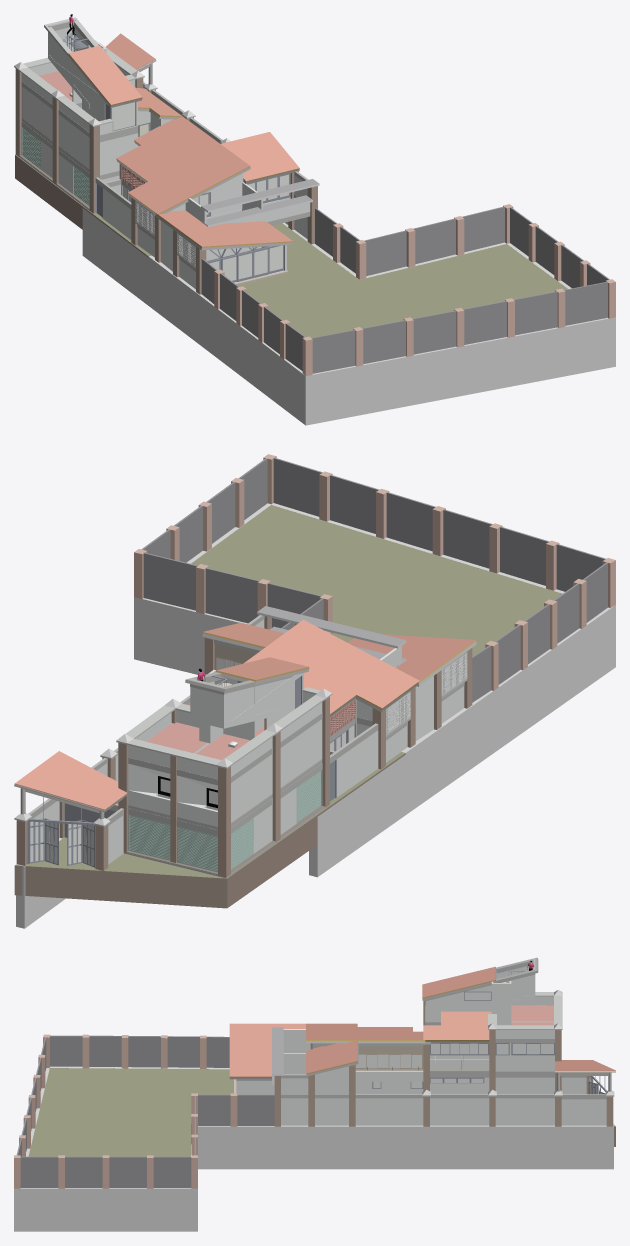
File: casa_lomas_optimizado.glb
3 views of the same model, one above another, from view 1: azimuth 30°, elevation 25°; view 2: azimuth 150°, elevation 25°; view 3: azimuth 270°, elevation 25° (orthographic). The views are drawn at different scales.
Parts seen in each view (by area): view 1: Mesh1829.001, Mesh298.001, Mesh1789.001, Mesh1708.001, Mesh1817.001, Mesh1766.001, Mesh1034.001, Mesh1705.001, Mesh284.001, Mesh286.001, Mesh288.001, Mesh285.001 (+25 smaller); view 2: Mesh1829.001, Mesh1789.001, Mesh1708.001, Mesh1817.001, Mesh300.001, Mesh433.001, Mesh1766.001, Mesh1139.001, Mesh294.001, Mesh295.001, Mesh286.001, Mesh287.001 (+39 smaller); view 3: Mesh1829.001, Mesh302.001, Mesh299.001, Mesh301.001, Mesh1766.001, Mesh1708.001, Mesh1503.001, Mesh870.001, Mesh464.001, Mesh1500.001, Mesh1705.001, Mesh1034.001 (+38 smaller).
Boxes of the visible parts, bbox=[...] form: Mesh1829.001: bbox=[15, 154, 567, 337]; Mesh298.001: bbox=[312, 317, 615, 424]; Mesh1789.001: bbox=[148, 255, 312, 425]; Mesh1708.001: bbox=[116, 116, 250, 215]; Mesh1817.001: bbox=[82, 208, 148, 305]; Mesh1766.001: bbox=[156, 210, 293, 250]; Mesh1034.001: bbox=[68, 45, 142, 107]; Mesh1705.001: bbox=[221, 132, 299, 183]; Mesh284.001: bbox=[311, 329, 355, 373]; Mesh286.001: bbox=[412, 310, 456, 354]; Mesh288.001: bbox=[514, 291, 557, 335]; Mesh285.001: bbox=[362, 320, 405, 363]; Mesh1829.001: bbox=[25, 505, 562, 908]; Mesh1789.001: bbox=[401, 605, 615, 814]; Mesh1708.001: bbox=[243, 619, 419, 717]; Mesh1817.001: bbox=[309, 755, 405, 877]; Mesh300.001: bbox=[142, 598, 247, 674]; Mesh433.001: bbox=[14, 751, 127, 812]; Mesh1766.001: bbox=[348, 634, 476, 686]; Mesh1139.001: bbox=[116, 687, 329, 768]; Mesh294.001: bbox=[143, 552, 197, 610]; Mesh295.001: bbox=[205, 567, 259, 623]; Mesh286.001: bbox=[443, 509, 492, 568]; Mesh287.001: bbox=[386, 492, 435, 551]; Mesh1829.001: bbox=[28, 1068, 233, 1156]; Mesh302.001: bbox=[355, 1123, 613, 1169]; Mesh299.001: bbox=[20, 1188, 197, 1231]; Mesh301.001: bbox=[198, 1125, 355, 1169]; Mesh1766.001: bbox=[229, 1023, 305, 1079]; Mesh1708.001: bbox=[306, 1023, 425, 1043]; Mesh1503.001: bbox=[355, 1098, 423, 1125]; Mesh870.001: bbox=[423, 1011, 491, 1042]; Mesh464.001: bbox=[430, 1098, 489, 1125]; Mesh1500.001: bbox=[495, 1098, 554, 1125]; Mesh1705.001: bbox=[306, 1040, 358, 1076]; Mesh1034.001: bbox=[422, 966, 496, 1000].
Bounding box in the file's own units: 10.22 × 6.44 × 21.04.
